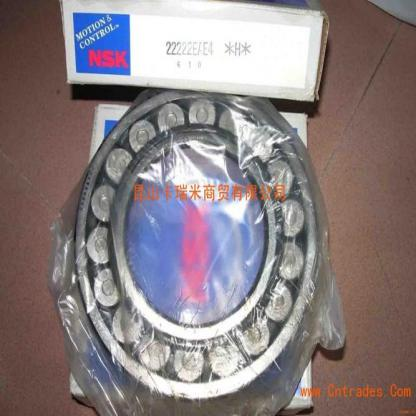FOD: (74, 83, 326, 400)
